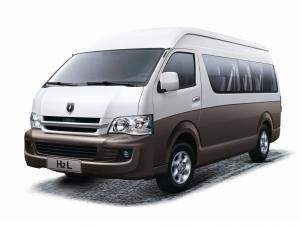Van: (24, 27, 281, 184)
